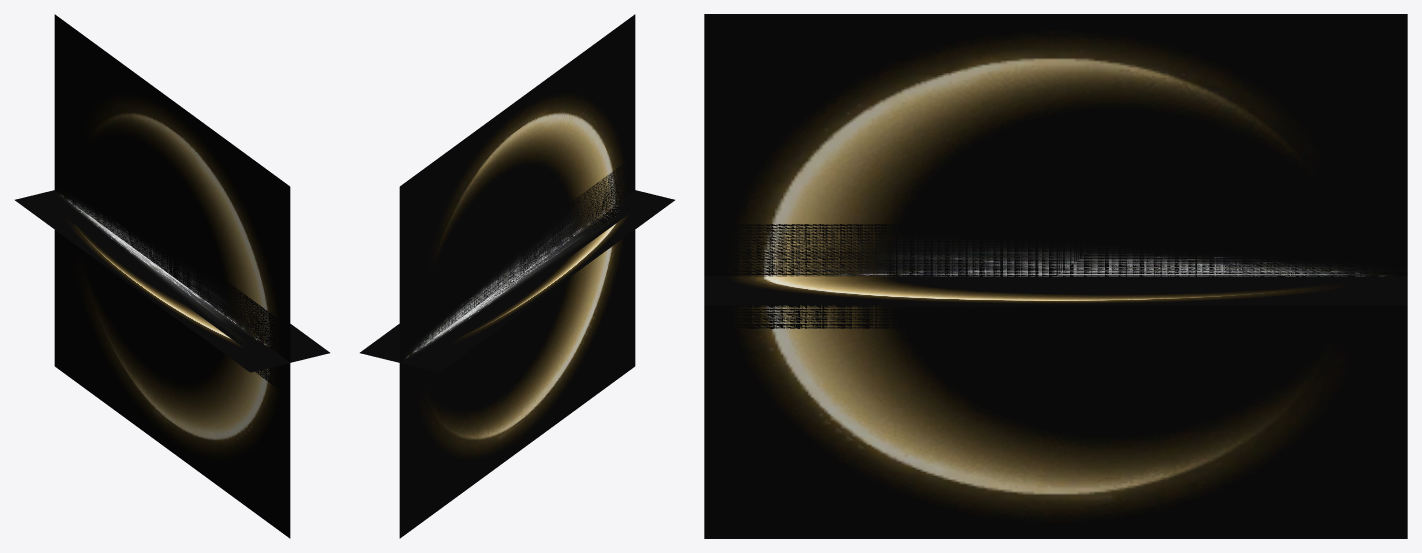
Rendered from Effect_1101skill001 (1) #0440121.fbx.
The picture shows the model from 3 angles, left to right: view 1: azimuth 30°, elevation 25°; view 2: azimuth 150°, elevation 25°; view 3: azimuth 270°, elevation 25°; orthographic projection. The views are drawn at different scales.
Parts seen in each view (by area): view 1: Effect_1101skill001 (1) (×2); view 2: Effect_1101skill001 (1) (×2); view 3: Effect_1101skill001 (1) (×2).
Boxes of the visible parts, x1,y1,x2,y2 form: Effect_1101skill001 (1) (×2): (15, 14, 329, 538); Effect_1101skill001 (1) (×2): (360, 14, 674, 538); Effect_1101skill001 (1) (×2): (704, 14, 1407, 538).
Bounding box in the file's own units: 1.67 × 7 × 8.5.
2 materials, 2 textured.
